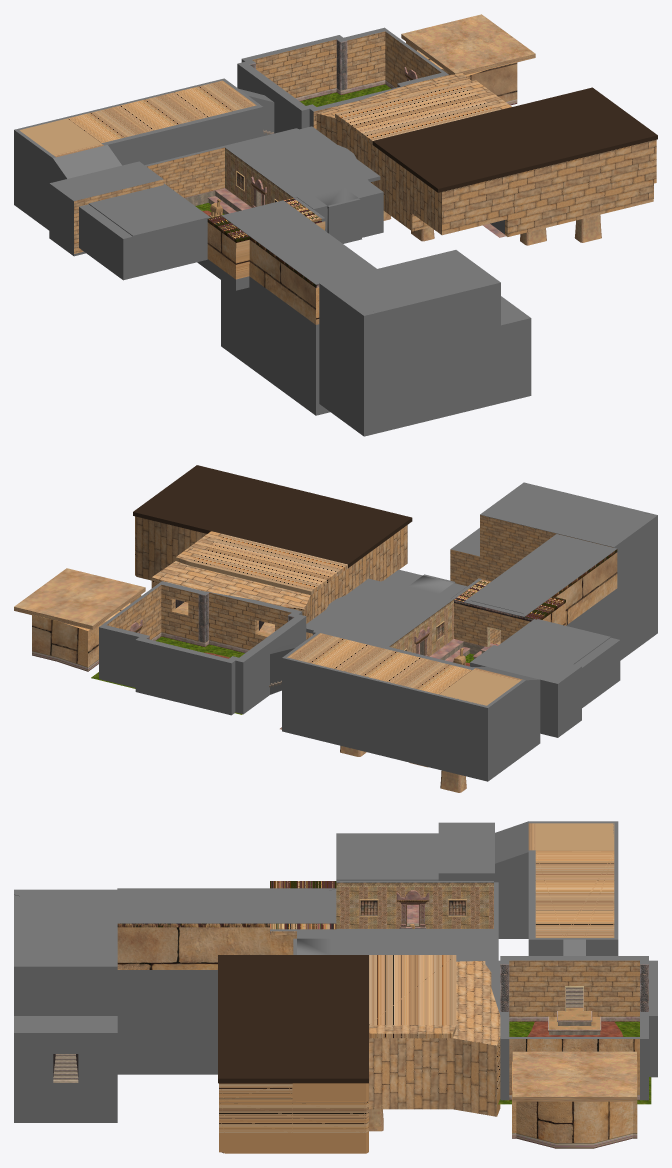
Rendered from Temple_1_01.fbx.
3 renders of one model, top to bottom at view 1: azimuth 30°, elevation 25°; view 2: azimuth 150°, elevation 25°; view 3: azimuth 270°, elevation 25°, orthographic. The views are drawn at different scales.
Visible parts, largest first — view 1: Box031, Box021, Box003, Box050, Plane015, Box060; view 2: Box031, Box021, Box003, Box050, Plane015; view 3: Box031, Box021, Box003, Box050, Plane015, Box051, Box029.
Boxes of the visible parts, x1=… form: Box031: x1=14, y1=27, x2=657, y2=256; Box021: x1=79, y1=126, x2=383, y2=415; Box003: x1=319, y1=250, x2=531, y2=436; Box050: x1=401, y1=14, x2=535, y2=74; Plane015: x1=300, y1=84, x2=390, y2=106; Box060: x1=574, y1=215, x2=601, y2=242; Box031: x1=32, y1=465, x2=581, y2=781; Box021: x1=306, y1=534, x2=620, y2=707; Box003: x1=450, y1=482, x2=657, y2=660; Box050: x1=14, y1=568, x2=145, y2=629; Plane015: x1=91, y1=636, x2=244, y2=714; Box031: x1=218, y1=821, x2=657, y2=1153; Box021: x1=117, y1=833, x2=498, y2=1074; Box003: x1=14, y1=889, x2=117, y2=1122; Box050: x1=512, y1=1051, x2=636, y2=1101; Plane015: x1=498, y1=1021, x2=651, y2=1104; Box051: x1=397, y1=890, x2=429, y2=928; Box029: x1=359, y1=899, x2=466, y2=916.
Bounding box in the file's own units: 14606 × 4364 × 14292.
